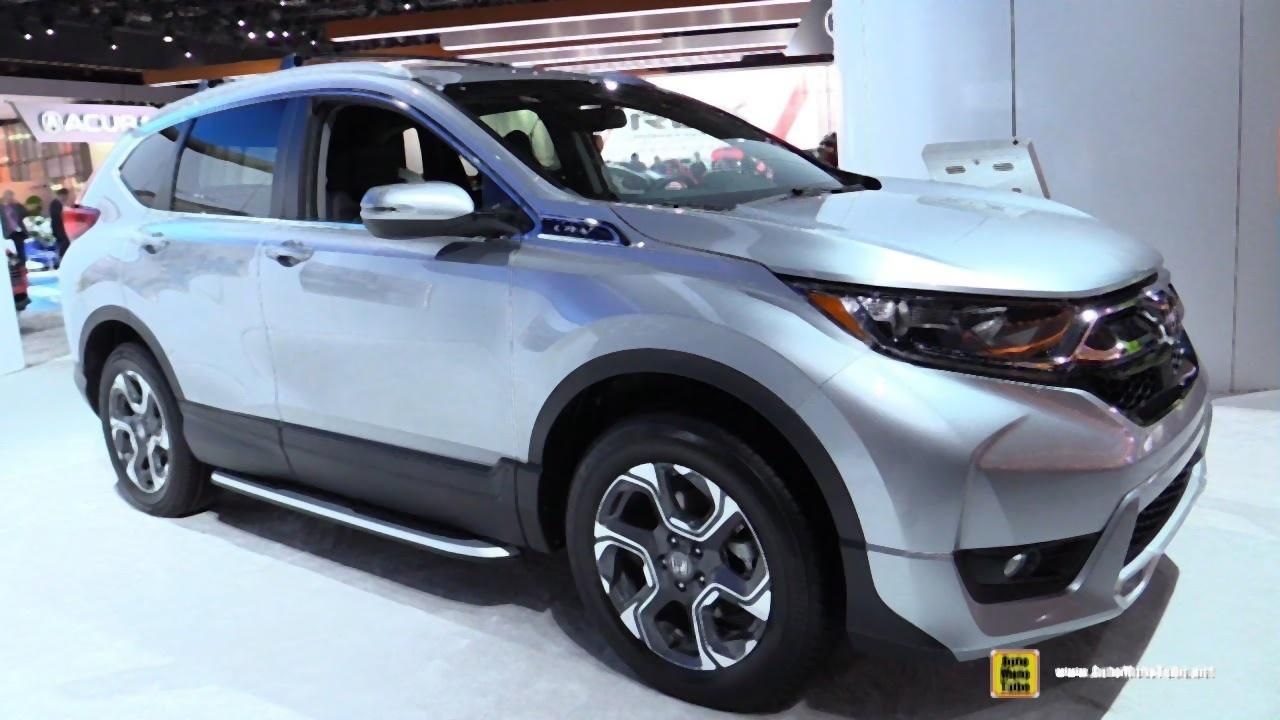Car hood: (604, 168, 1168, 304)
Driver-s door - -F-R-: (274, 68, 514, 477)
Fender - -F-R-: (512, 191, 874, 552)
Fender - -R-R-: (56, 228, 123, 319)
Front bumper: (798, 412, 1219, 680)
Headlight - -R-: (768, 266, 1095, 395)
Passenger-s door - -R-R-: (120, 74, 275, 442)
Rear bumper: (52, 282, 95, 417)
Rear light - -R-: (44, 190, 103, 257)
Side bumper - -R-: (164, 388, 574, 562)
Side mirror - -R-: (342, 164, 501, 260)
